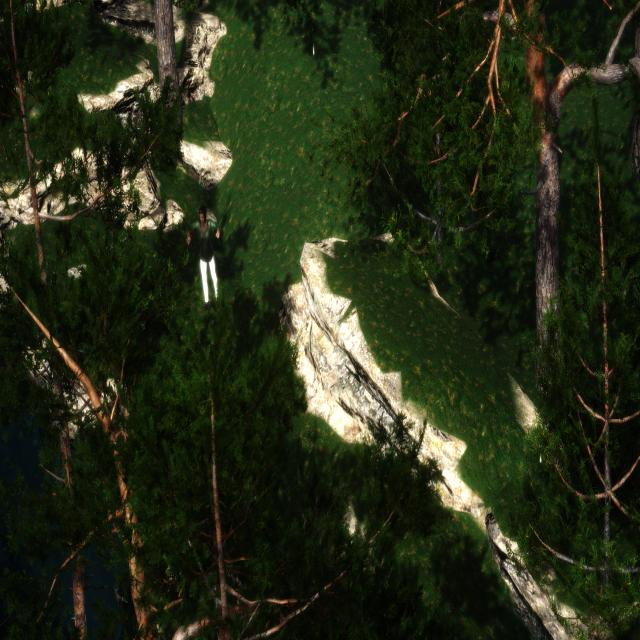Human: (185, 209, 226, 312)
